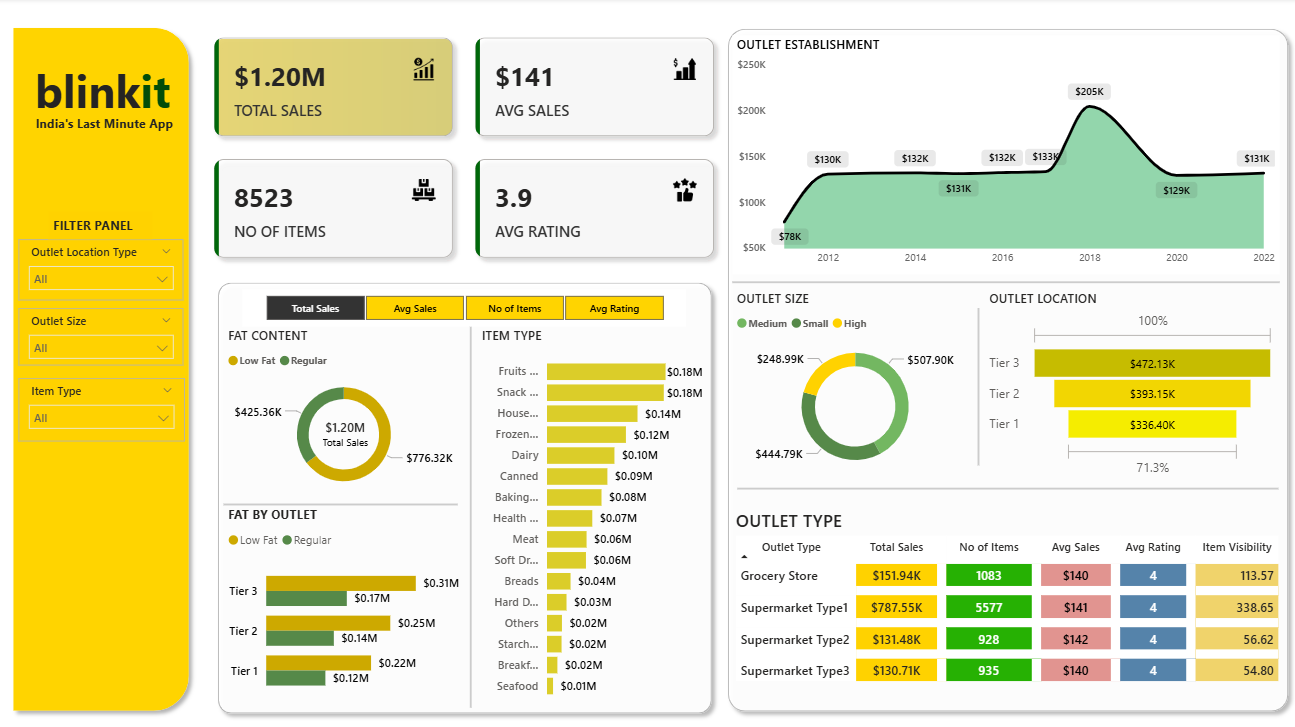

Layout of this report page (visuals, bound fields, positions):
{"tool":"powerbi","page":{"name":"Blinkit Dashboard","canvas":[1400,800],"ordinal":0},"visuals":[{"type":"shape","box":[14.7,22.8,206.4,750.7],"z":0},{"type":"textbox","box":[33,61.5,172.6,75],"z":1000},{"type":"textbox","box":[43.5,120.1,162.1,31.5],"z":2000},{"type":"cardVisual","fields":{"Data":["BlinkIT Grocery Data.Total Sales","BlinkIT Grocery Data.Avg Sales","BlinkIT Grocery Data.No of Items","BlinkIT Grocery Data.Avg Rating"]},"box":[222.9,25.7,571.4,270],"z":3000},{"type":"shape","box":[234.3,295.7,547.1,480],"z":4000},{"type":"donutChart","title":"FAT CONTENT","fields":{"Y":["BlinkIT Grocery Data.Total Sales"],"Category":["BlinkIT Grocery Data.Item Fat Content"]},"box":[250,352.9,258.6,185.7],"z":5000},{"type":"slicer","fields":{"Values":["Metrics.Metrics"]},"box":[270,312.9,475.7,40],"z":6000},{"type":"cardVisual","fields":{"Data":["BlinkIT Grocery Data.Total Sales"]},"box":[331.4,434.3,98.6,57.1],"z":7000},{"type":"clusteredBarChart","title":"FAT BY OUTLET","fields":{"Y":["BlinkIT Grocery Data.Total Sales"],"Category":["BlinkIT Grocery Data.Outlet Location Type"],"Series":["BlinkIT Grocery Data.Item Fat Content"]},"box":[250,544.3,258.6,217.1],"z":8000},{"type":"shape","box":[250,538.6,251.4,8.6],"z":9000},{"type":"shape","box":[508.6,352.9,12.9,408.6],"z":10000},{"type":"barChart","title":"ITEM TYPE","fields":{"Y":["BlinkIT Grocery Data.Total Sales"],"Category":["BlinkIT Grocery Data.Item Type"]},"box":[521.4,352.9,247.1,408.6],"z":11000},{"type":"shape","box":[781.4,24.3,618.6,750],"z":12000},{"type":"lineChart","title":"OUTLET ESTABLISHMENT","fields":{"Category":["BlinkIT Grocery Data.Outlet Establishment Year"],"Y":["BlinkIT Grocery Data.Total Sales"]},"box":[794.3,40,587.1,255.7],"z":13000},{"type":"shape","box":[794.3,295.7,587.1,17.1],"z":14000},{"type":"donutChart","title":"OUTLET SIZE","fields":{"Y":["BlinkIT Grocery Data.Total Sales"],"Category":["BlinkIT Grocery Data.Outlet Size"]},"box":[794.9,312.3,264.1,206.4],"z":15000},{"type":"shape","box":[1052.3,332.4,13.4,168.9],"z":16000},{"type":"funnel","title":"OUTLET LOCATION","fields":{"Y":["BlinkIT Grocery Data.Total Sales"],"Category":["BlinkIT Grocery Data.Outlet Location Type"]},"box":[1065.7,312.3,316.4,206.4],"z":17000},{"type":"pivotTable","title":"OUTLET TYPE","fields":{"Values":["BlinkIT Grocery Data.Total Sales","BlinkIT Grocery Data.No of Items","BlinkIT Grocery Data.Avg Sales","BlinkIT Grocery Data.Avg Rating","Sum(BlinkIT Grocery Data.Item Visibility)"],"Rows":["BlinkIT Grocery Data.Outlet Type"]},"box":[798.9,546.9,584.5,214.5],"z":18000},{"type":"shape","box":[800.3,492,580.4,68.4],"z":18001},{"type":"slicer","fields":{"Values":["BlinkIT Grocery Data.Outlet Location Type"]},"box":[29.5,258.7,176.9,65.7],"z":18002},{"type":"slicer","fields":{"Values":["BlinkIT Grocery Data.Outlet Size"]},"box":[29.5,332.4,176.9,61.7],"z":18003},{"type":"slicer","fields":{"Values":["BlinkIT Grocery Data.Item Type"]},"box":[29.5,407.5,178.3,68.4],"z":18004},{"type":"textbox","title":"FILTER PANEL","box":[61.7,229.2,111.3,29.5],"z":18005}]}

Visuals, with their boxes in screenshot pixels (x1, y1, x2, y2), scaled from the page's 1400x800 canvas onto the 1295x727 screenshot:
shape: bbox(14, 21, 205, 703)
textbox: bbox(31, 56, 190, 124)
textbox: bbox(40, 109, 190, 138)
cardVisual - BlinkIT Grocery Data.Total Sales x BlinkIT Grocery Data.Avg Sales: bbox(206, 23, 735, 269)
shape: bbox(217, 269, 723, 705)
"FAT CONTENT" donutChart: bbox(231, 321, 470, 489)
slicer - Metrics.Metrics: bbox(250, 284, 690, 321)
cardVisual - BlinkIT Grocery Data.Total Sales: bbox(307, 395, 398, 447)
"FAT BY OUTLET" clusteredBarChart: bbox(231, 495, 470, 692)
shape: bbox(231, 489, 464, 497)
shape: bbox(470, 321, 482, 692)
"ITEM TYPE" barChart: bbox(482, 321, 711, 692)
shape: bbox(723, 22, 1294, 704)
"OUTLET ESTABLISHMENT" lineChart: bbox(735, 36, 1278, 269)
shape: bbox(735, 269, 1278, 284)
"OUTLET SIZE" donutChart: bbox(735, 284, 980, 471)
shape: bbox(973, 302, 986, 456)
"OUTLET LOCATION" funnel: bbox(986, 284, 1278, 471)
"OUTLET TYPE" pivotTable: bbox(739, 497, 1280, 692)
shape: bbox(740, 447, 1277, 509)
slicer - BlinkIT Grocery Data.Outlet Location Type: bbox(27, 235, 191, 295)
slicer - BlinkIT Grocery Data.Outlet Size: bbox(27, 302, 191, 358)
slicer - BlinkIT Grocery Data.Item Type: bbox(27, 370, 192, 432)
"FILTER PANEL" textbox: bbox(57, 208, 160, 235)
